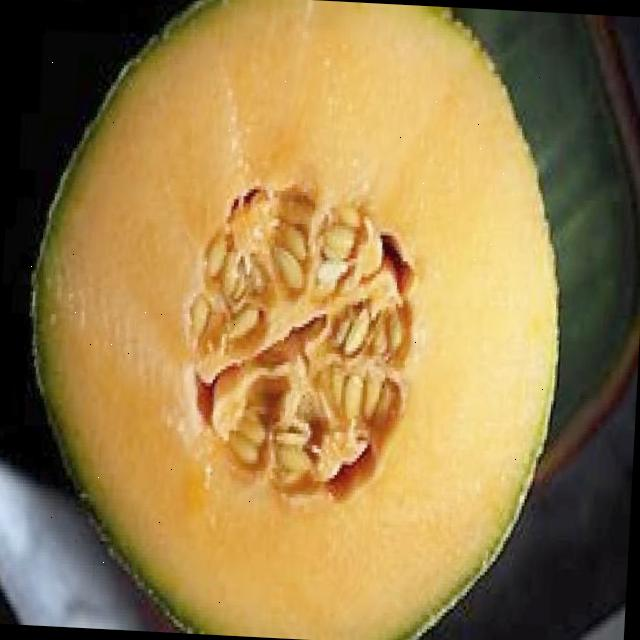Hami Melon: (10, 0, 575, 640)
